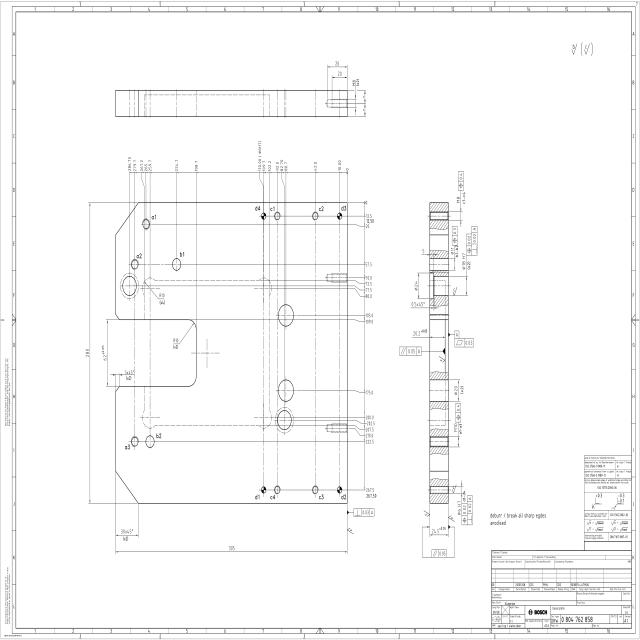dimension: (115, 544, 348, 556), (85, 200, 94, 504), (255, 137, 266, 283), (192, 157, 200, 329), (277, 157, 285, 306), (136, 156, 145, 282), (146, 156, 154, 295), (140, 156, 148, 278), (324, 59, 349, 95), (284, 158, 290, 307), (264, 158, 271, 283), (125, 154, 132, 274), (102, 319, 114, 388), (131, 156, 138, 262), (173, 157, 180, 258), (110, 367, 136, 391), (172, 322, 193, 350), (143, 282, 166, 306), (334, 156, 343, 217), (58, 23, 72, 62), (330, 70, 348, 99), (452, 191, 466, 228), (461, 249, 471, 297), (414, 272, 431, 300), (313, 158, 321, 215), (412, 328, 446, 340), (451, 416, 462, 449), (352, 77, 361, 117), (115, 528, 139, 542), (274, 158, 280, 211), (410, 300, 436, 312), (455, 491, 467, 515), (453, 378, 464, 403), (430, 526, 450, 538), (361, 89, 369, 118), (358, 199, 369, 220), (422, 248, 441, 259), (448, 245, 456, 271), (354, 318, 374, 326), (354, 493, 376, 500), (354, 486, 375, 493), (355, 292, 373, 300), (355, 311, 375, 318), (354, 286, 373, 293), (358, 388, 374, 396), (354, 438, 375, 444), (355, 420, 375, 426), (354, 426, 374, 432), (354, 432, 374, 438), (355, 223, 371, 230), (359, 260, 373, 268), (356, 280, 374, 286), (356, 414, 374, 420), (358, 219, 375, 225), (358, 275, 373, 281)
